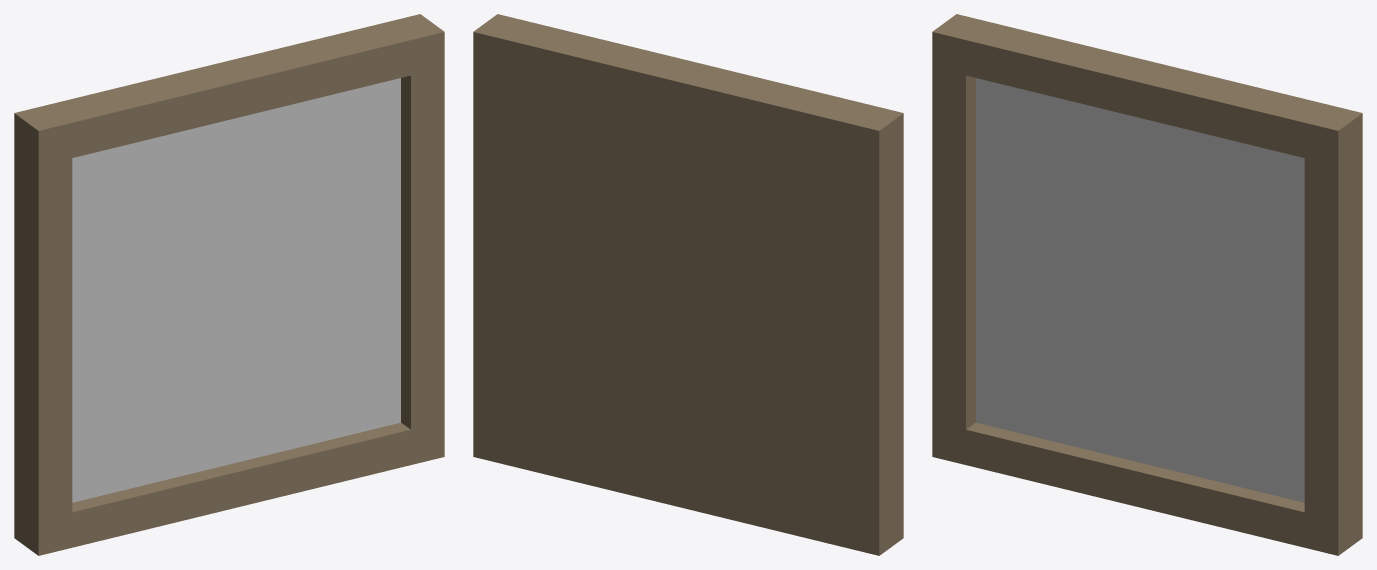
Rendered from frame2.fbx.
3 views of the same model, side by side, from view 1: azimuth 30°, elevation 25°; view 2: azimuth 150°, elevation 25°; view 3: azimuth 330°, elevation 25° (orthographic).
Parts seen in each view (by area): view 1: frame2; view 2: frame2; view 3: frame2.
Part boxes in pixels (box(x1,y1,x2,y2)): frame2: box(14, 14, 444, 555); frame2: box(473, 14, 903, 555); frame2: box(932, 14, 1362, 555).
Size of the model in its own units: 144 by 144 by 15.
